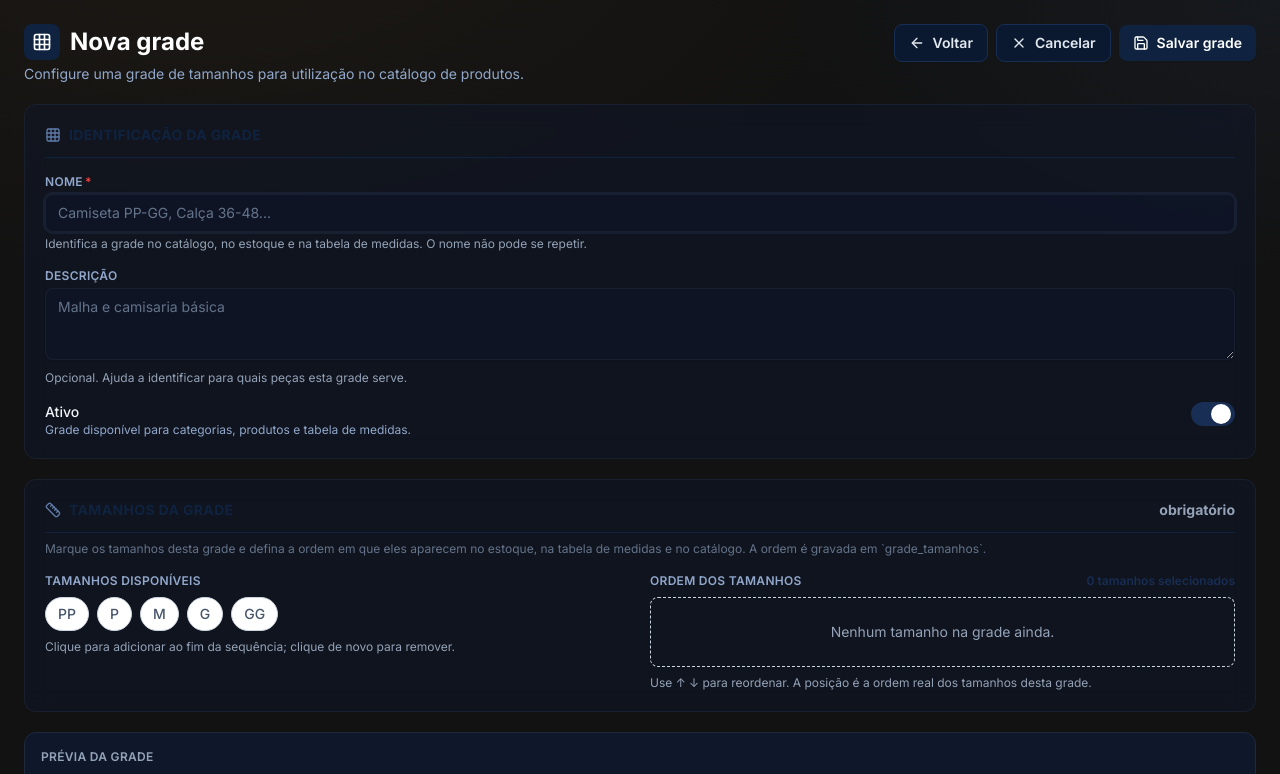
Scenario: nova grade — página própria do ERP › mostra o erro devolvido pela API (nome duplicado) no campo
Type "Camiseta P-GG" into the field labelled "Nome*" at point(640, 213), box [45,194,1235,232]
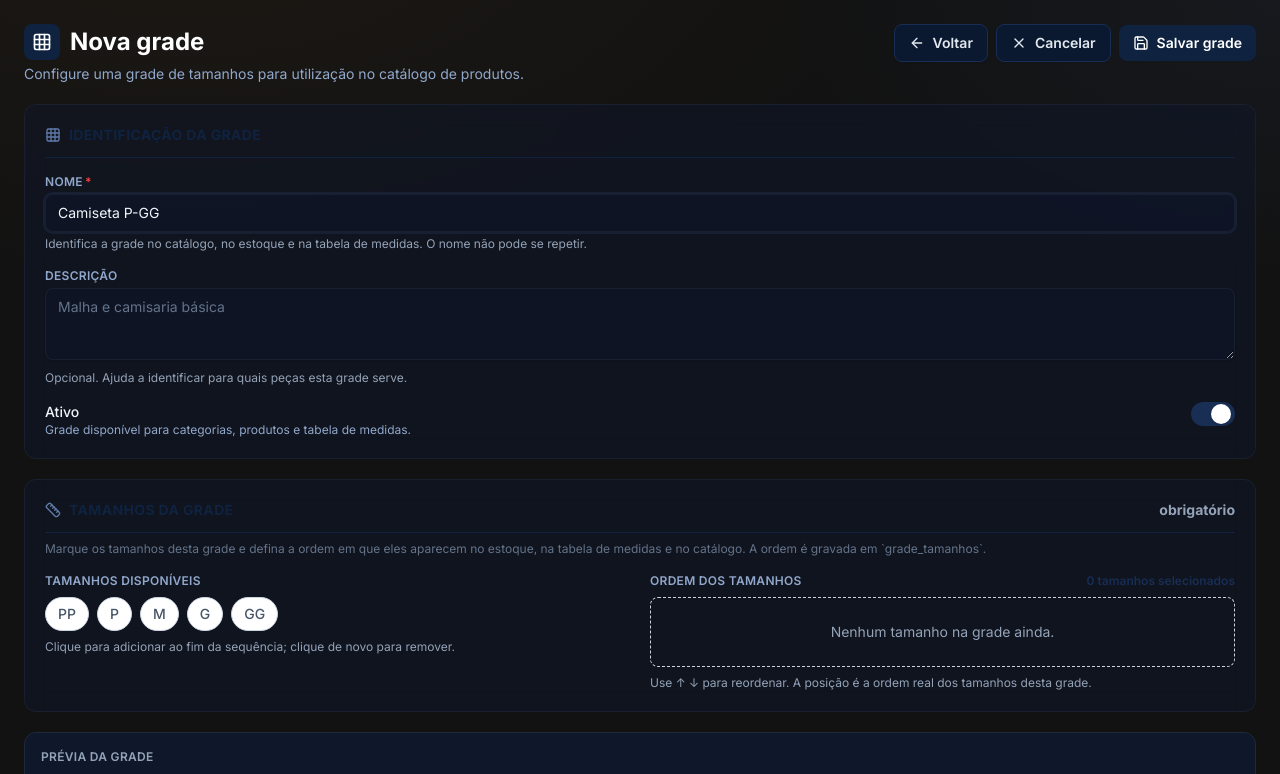
Click the button "P" at point(114, 614), box [97,597,132,631]
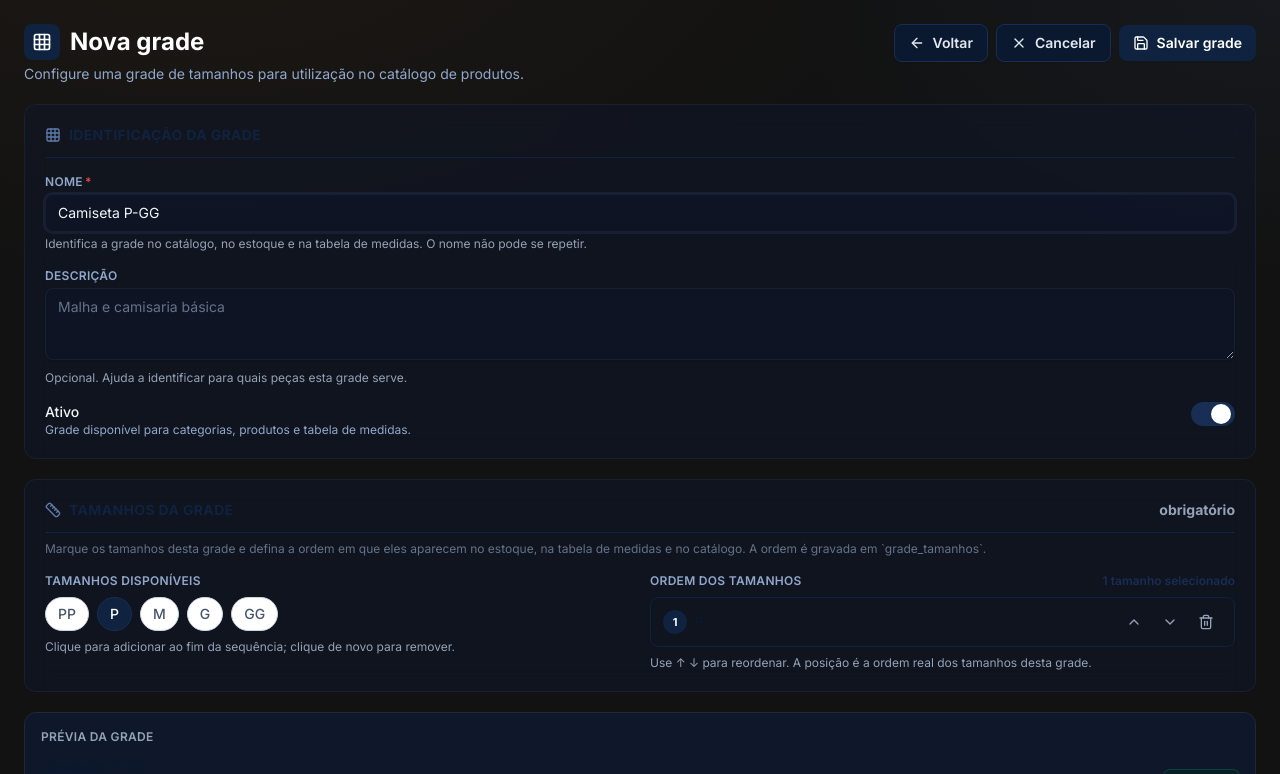
Click the button "Salvar grade" at point(1187, 43), box [1119,25,1256,61]
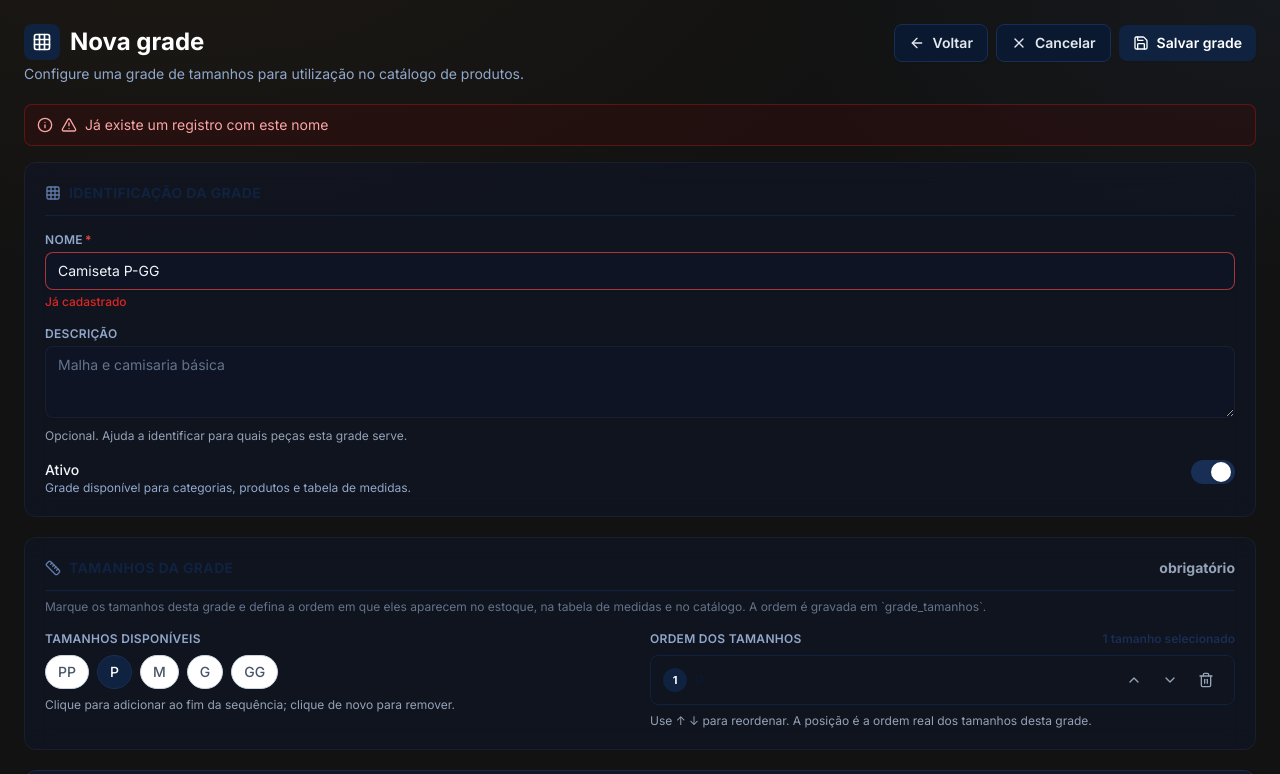
Expected: the text "Já existe um registro com este nome" is shown, [85,115,328,135]
Expected: the text "Já cadastrado" is shown, [45,294,127,309]
